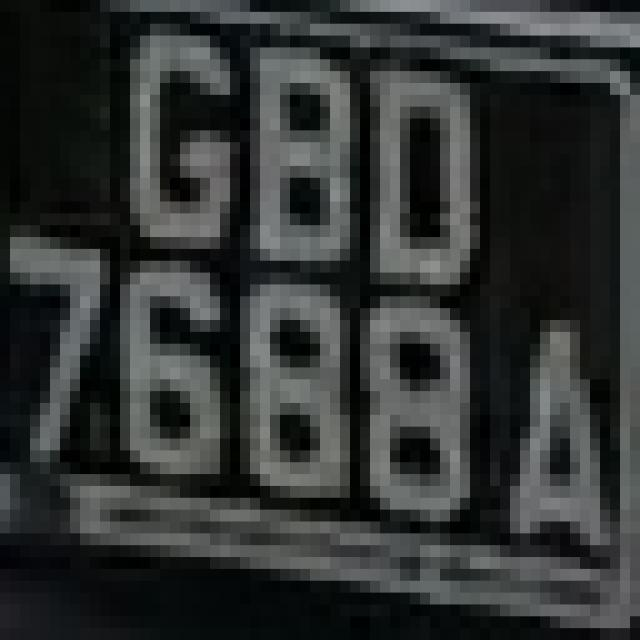6: (110, 226, 220, 534)
7: (20, 202, 110, 522)
8: (350, 249, 480, 533), (230, 249, 350, 545)
A: (500, 284, 640, 592)
B: (250, 24, 370, 344)
D: (370, 48, 480, 284)
G: (120, 0, 240, 261)
